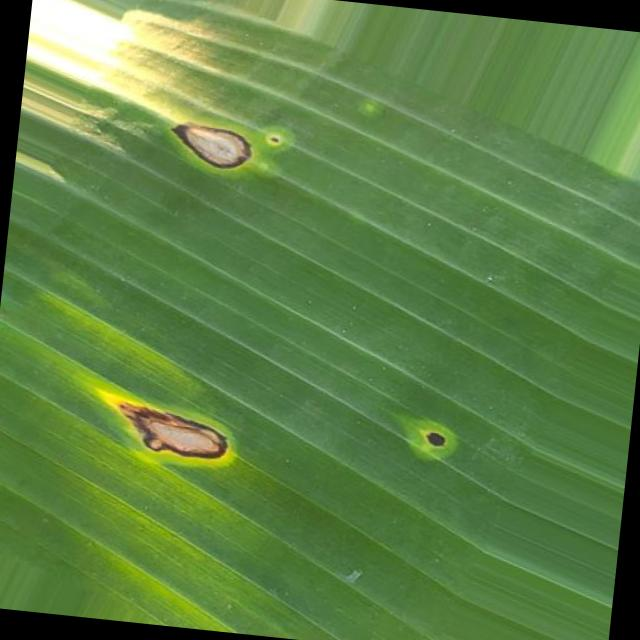Banana_Black_Sigatoka: (148, 66, 344, 252), (113, 358, 314, 524)
